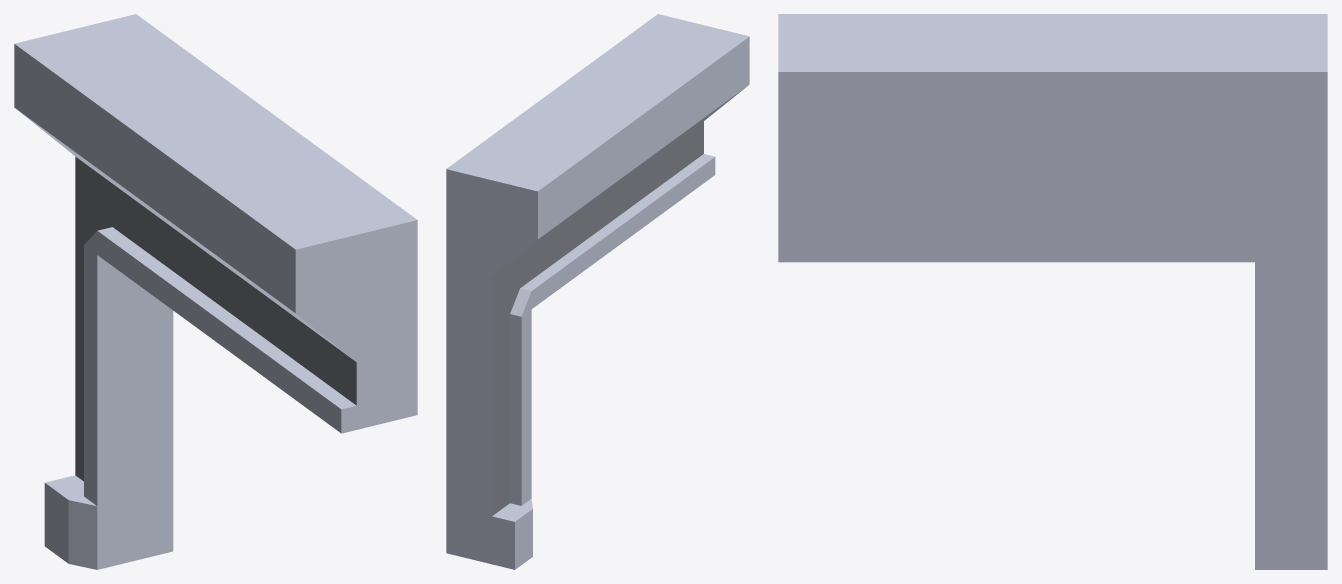
The picture shows the model from 3 angles, left to right: view 1: azimuth 30°, elevation 25°; view 2: azimuth 150°, elevation 25°; view 3: azimuth 270°, elevation 25°; orthographic projection. The views are drawn at different scales.
Parts seen in each view (by area): view 1: object_039; view 2: object_039; view 3: object_039.
Part boxes in pixels (<box>): object_039: <box>14,14,417,569</box>; object_039: <box>446,14,749,569</box>; object_039: <box>778,14,1327,569</box>.
Size of the model in its own units: 2.5 by 10 by 10.
